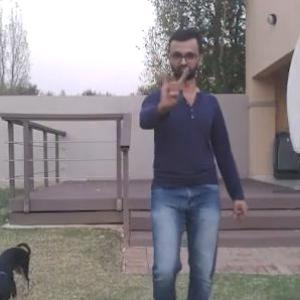takeoff-hand: (151, 63, 187, 113)
